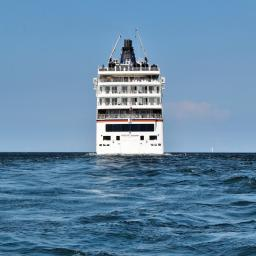cruises: (93, 31, 167, 160)
